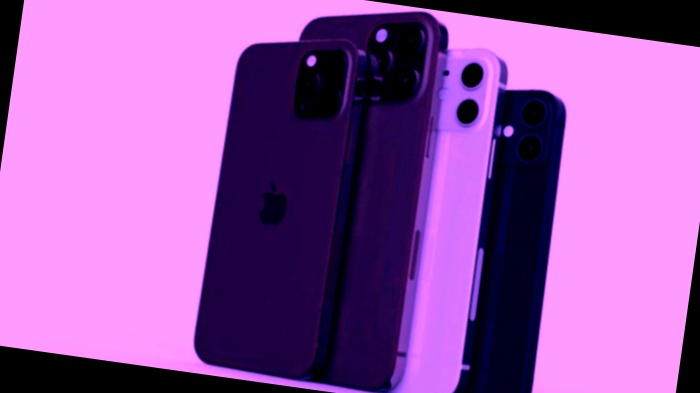iphone: (350, 42, 485, 385)
